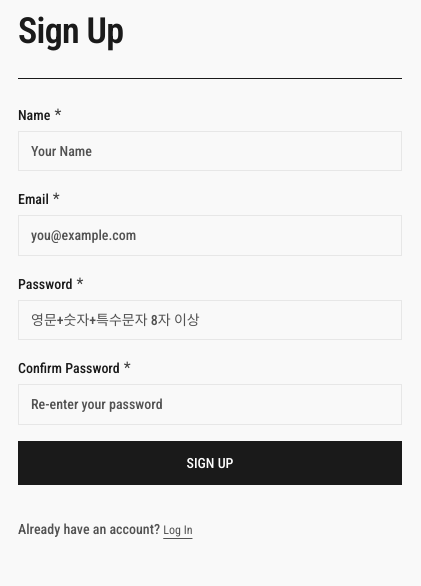
Scenario: RegisterForm › shows email validation error for invalid email
Type "홍길동" into the field labelled "Name" at point(210, 151), box [18,131,402,171]
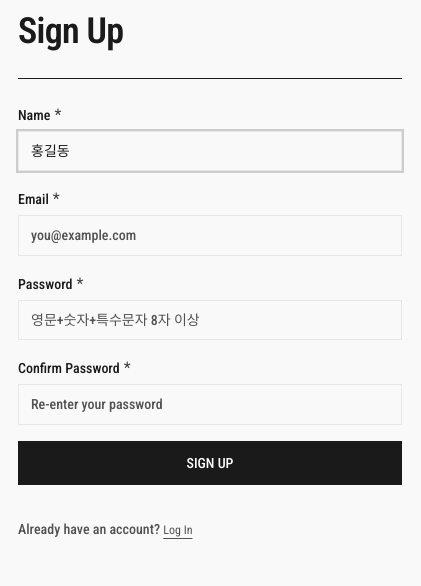
Type "not-valid" into the field labelled "Email" at point(210, 236), box [18,215,402,256]
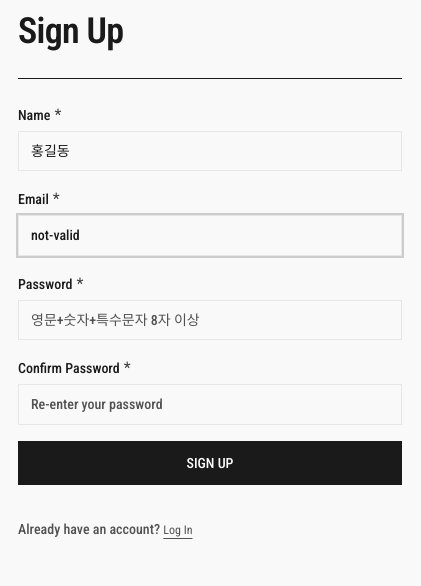
Type "password1" into the password field labelled "Password" at point(210, 320), box [18,300,402,340]
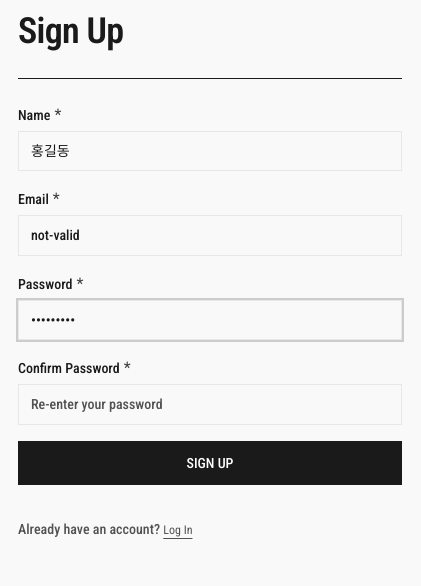
Type "password1" into the password field labelled "Confirm Password" at point(210, 404), box [18,384,402,425]
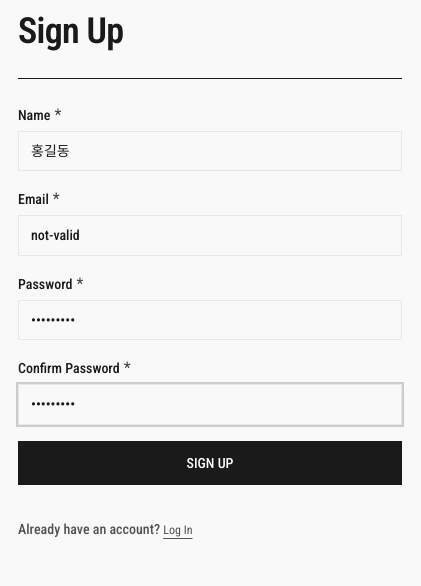
Use fireEvent.submit to bypass native HTML email constraint validation in jsdom
Submit the form "Sign Up", box [18,103,402,485]
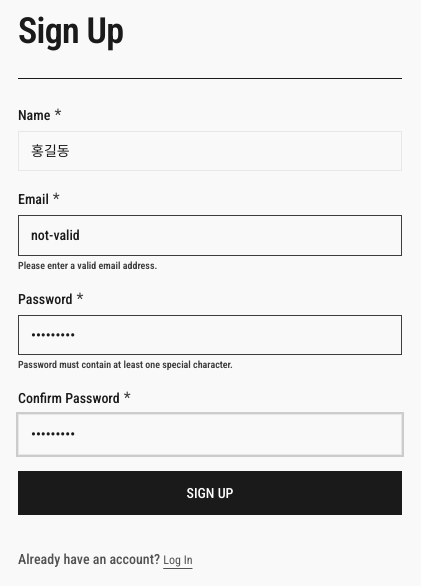
Expected: the text "Please enter a valid email address." is shown, [18,260,157,271]
